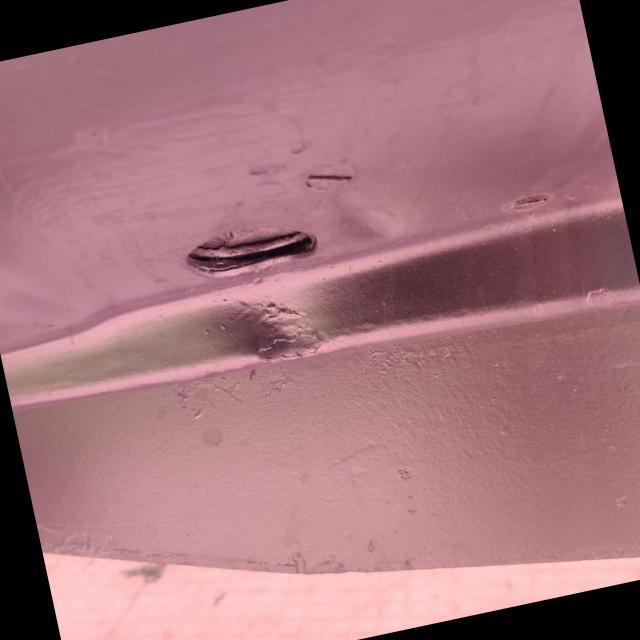Dent: (200, 258, 356, 399)
